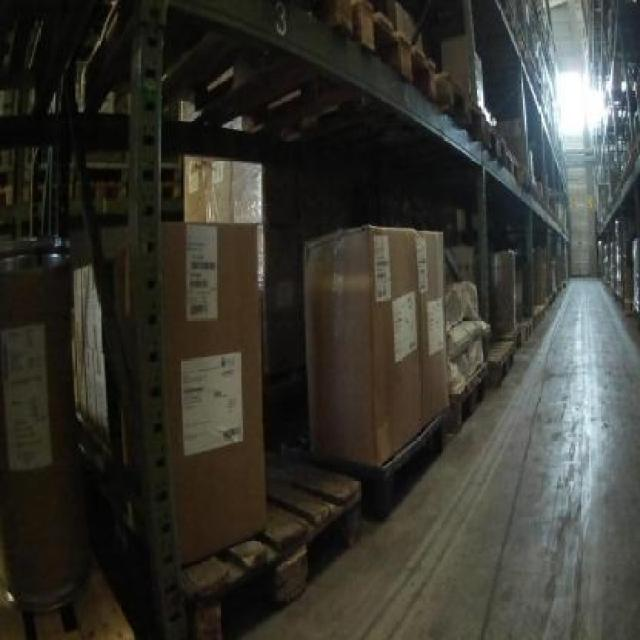pallets: (303, 225, 445, 512), (160, 222, 263, 562), (303, 225, 445, 463)
